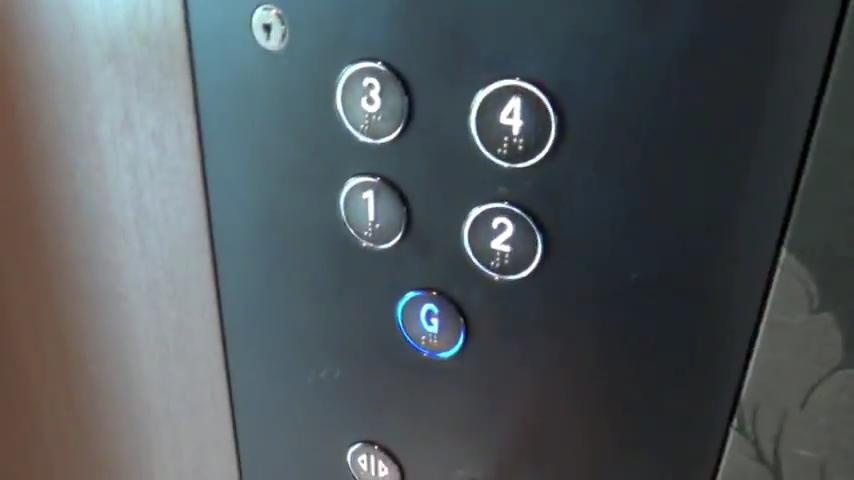1: (339, 172, 409, 250)
2: (461, 201, 543, 282)
3: (335, 58, 411, 147)
4: (465, 76, 558, 170)
G: (394, 288, 467, 363)
keyhole: (246, 3, 291, 54)
open: (347, 439, 405, 480)
